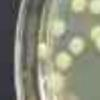white: (43, 70, 73, 98), (63, 32, 89, 60), (52, 49, 79, 74), (48, 19, 71, 42), (34, 40, 53, 63), (84, 21, 100, 39), (68, 0, 88, 14), (86, 0, 100, 17), (91, 33, 100, 58)
